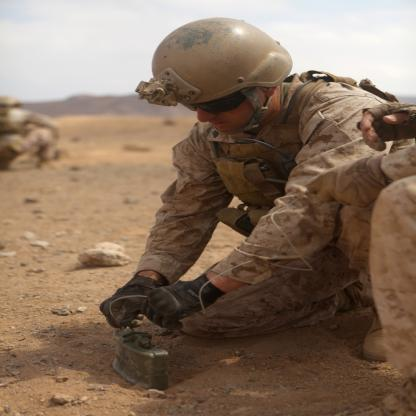Helmet: (151, 14, 299, 122)
